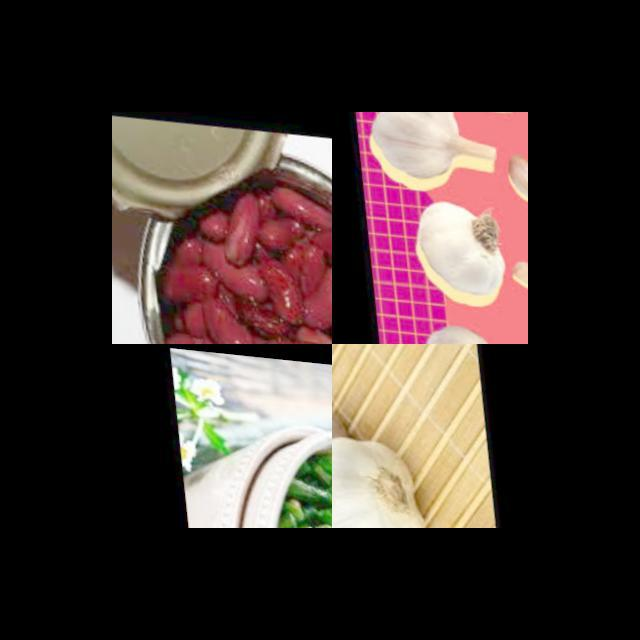garlic: (358, 112, 499, 198), (406, 190, 512, 304), (332, 418, 421, 528), (402, 313, 528, 344), (497, 142, 528, 209), (502, 249, 528, 295)
